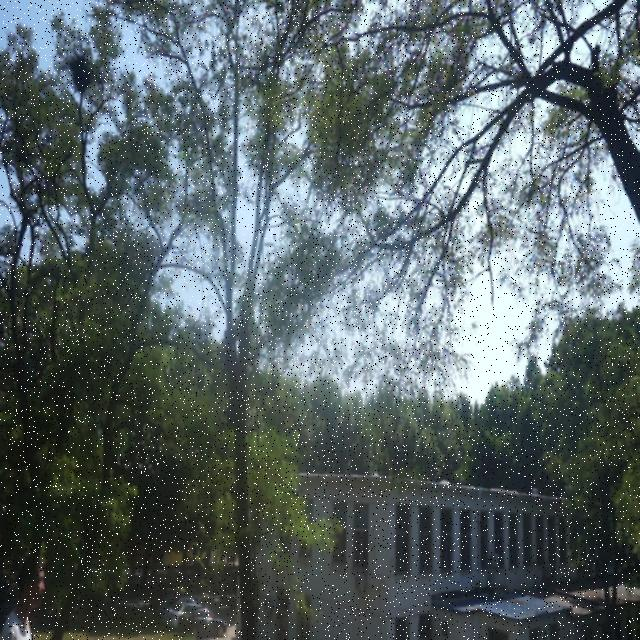UAV: (288, 486, 302, 498)
